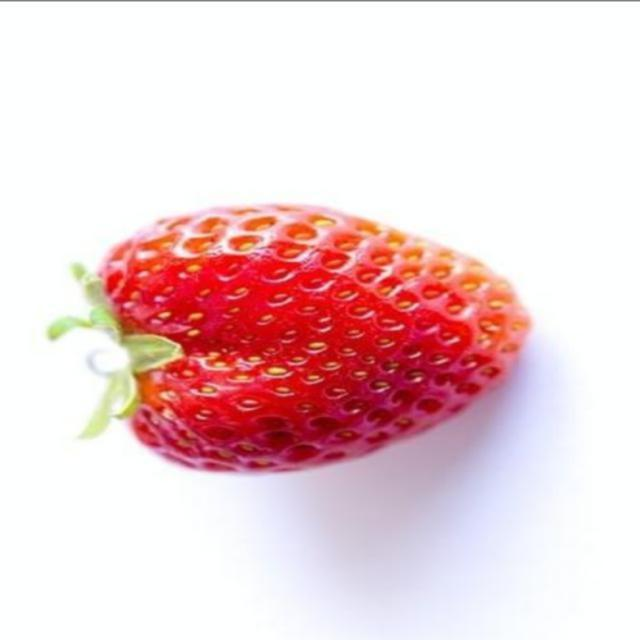strawberry: (100, 202, 534, 476)
